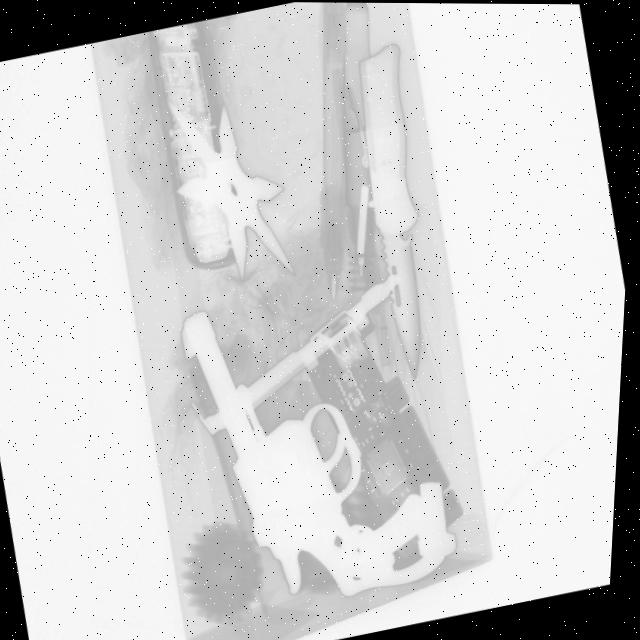knife: (325, 36, 475, 376)
pistol: (168, 265, 477, 623)
